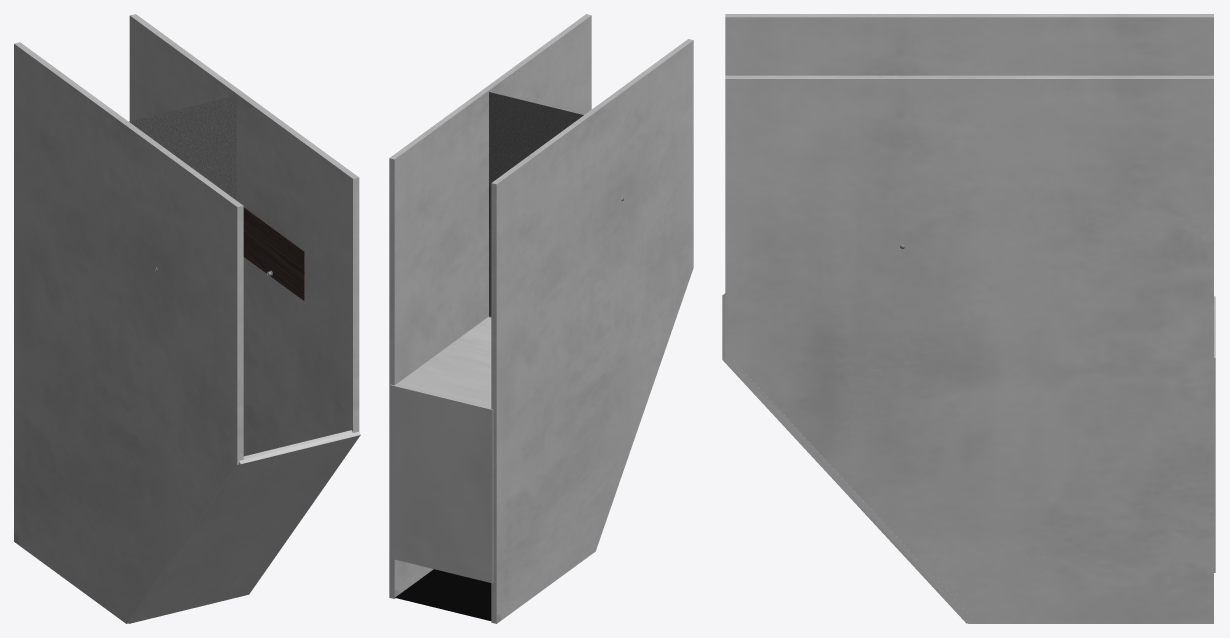
Rendered from hallway.glb.
The picture shows the model from 3 angles, left to right: view 1: azimuth 30°, elevation 25°; view 2: azimuth 150°, elevation 25°; view 3: azimuth 270°, elevation 25°; orthographic projection. The views are drawn at different scales.
Parts seen in each view (by area): view 1: Wall_03, Wall_01, Wall_02, Floor, Door; view 2: Wall_03, Wall_01, Cube.016, Floor, Plane; view 3: Wall_01, Wall_03, Wall_02.
Boxes of the visible parts, bbox=[...] form: Wall_03: bbox=[14, 42, 243, 623]; Wall_01: bbox=[129, 14, 359, 456]; Wall_02: bbox=[128, 430, 360, 623]; Floor: bbox=[129, 95, 236, 200]; Door: bbox=[243, 207, 304, 300]; Wall_03: bbox=[491, 39, 693, 623]; Wall_01: bbox=[389, 14, 591, 598]; Cube.016: bbox=[390, 317, 493, 583]; Floor: bbox=[489, 92, 583, 316]; Plane: bbox=[395, 569, 491, 620]; Wall_01: bbox=[725, 75, 1213, 623]; Wall_03: bbox=[725, 14, 1213, 75]; Wall_02: bbox=[722, 293, 972, 623].
Bounding box in the file's own units: 2.09 × 8.09 × 6.64.
Materials: 9 (8 with a texture image).
